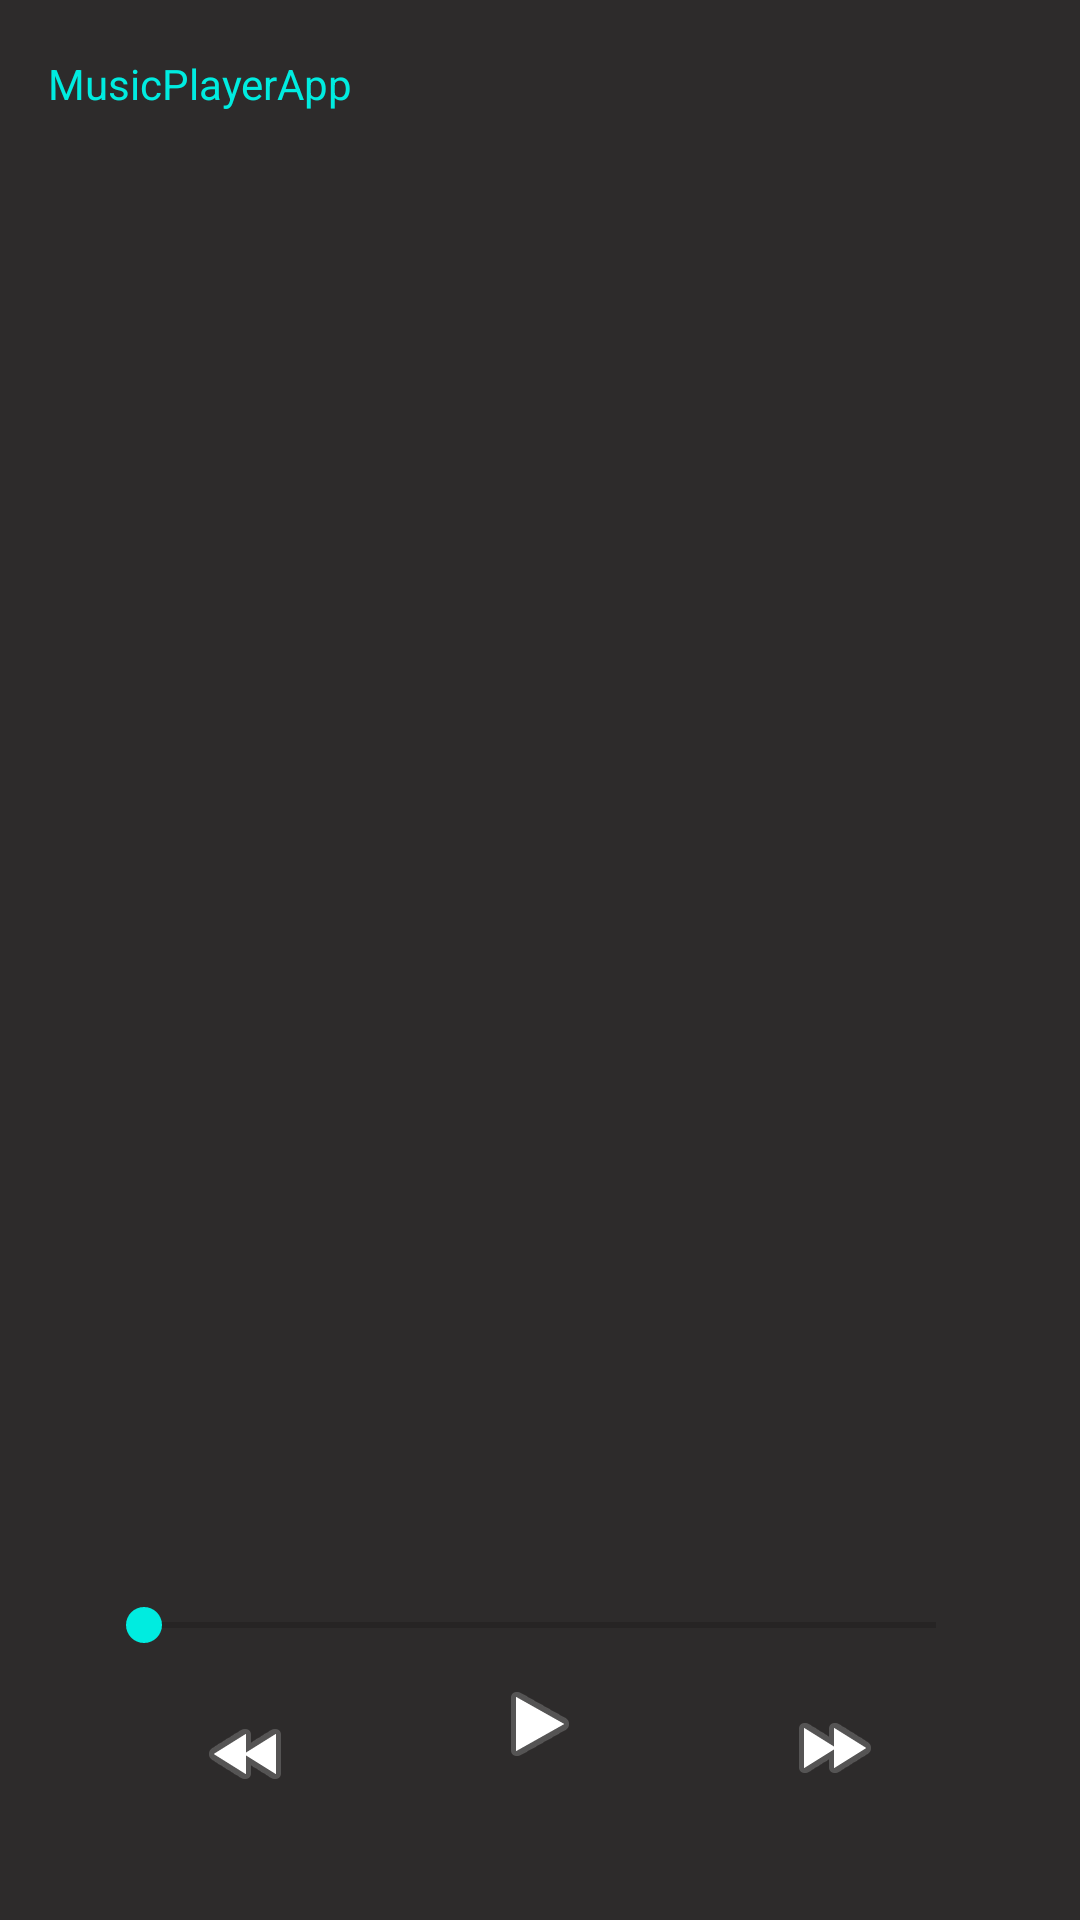

Icons on this 1080w x 1920h Android screen, each with its box as (x1,y1,x2,y2):
play: (511,1692,569,1756)
rew: (209,1729,281,1779)
